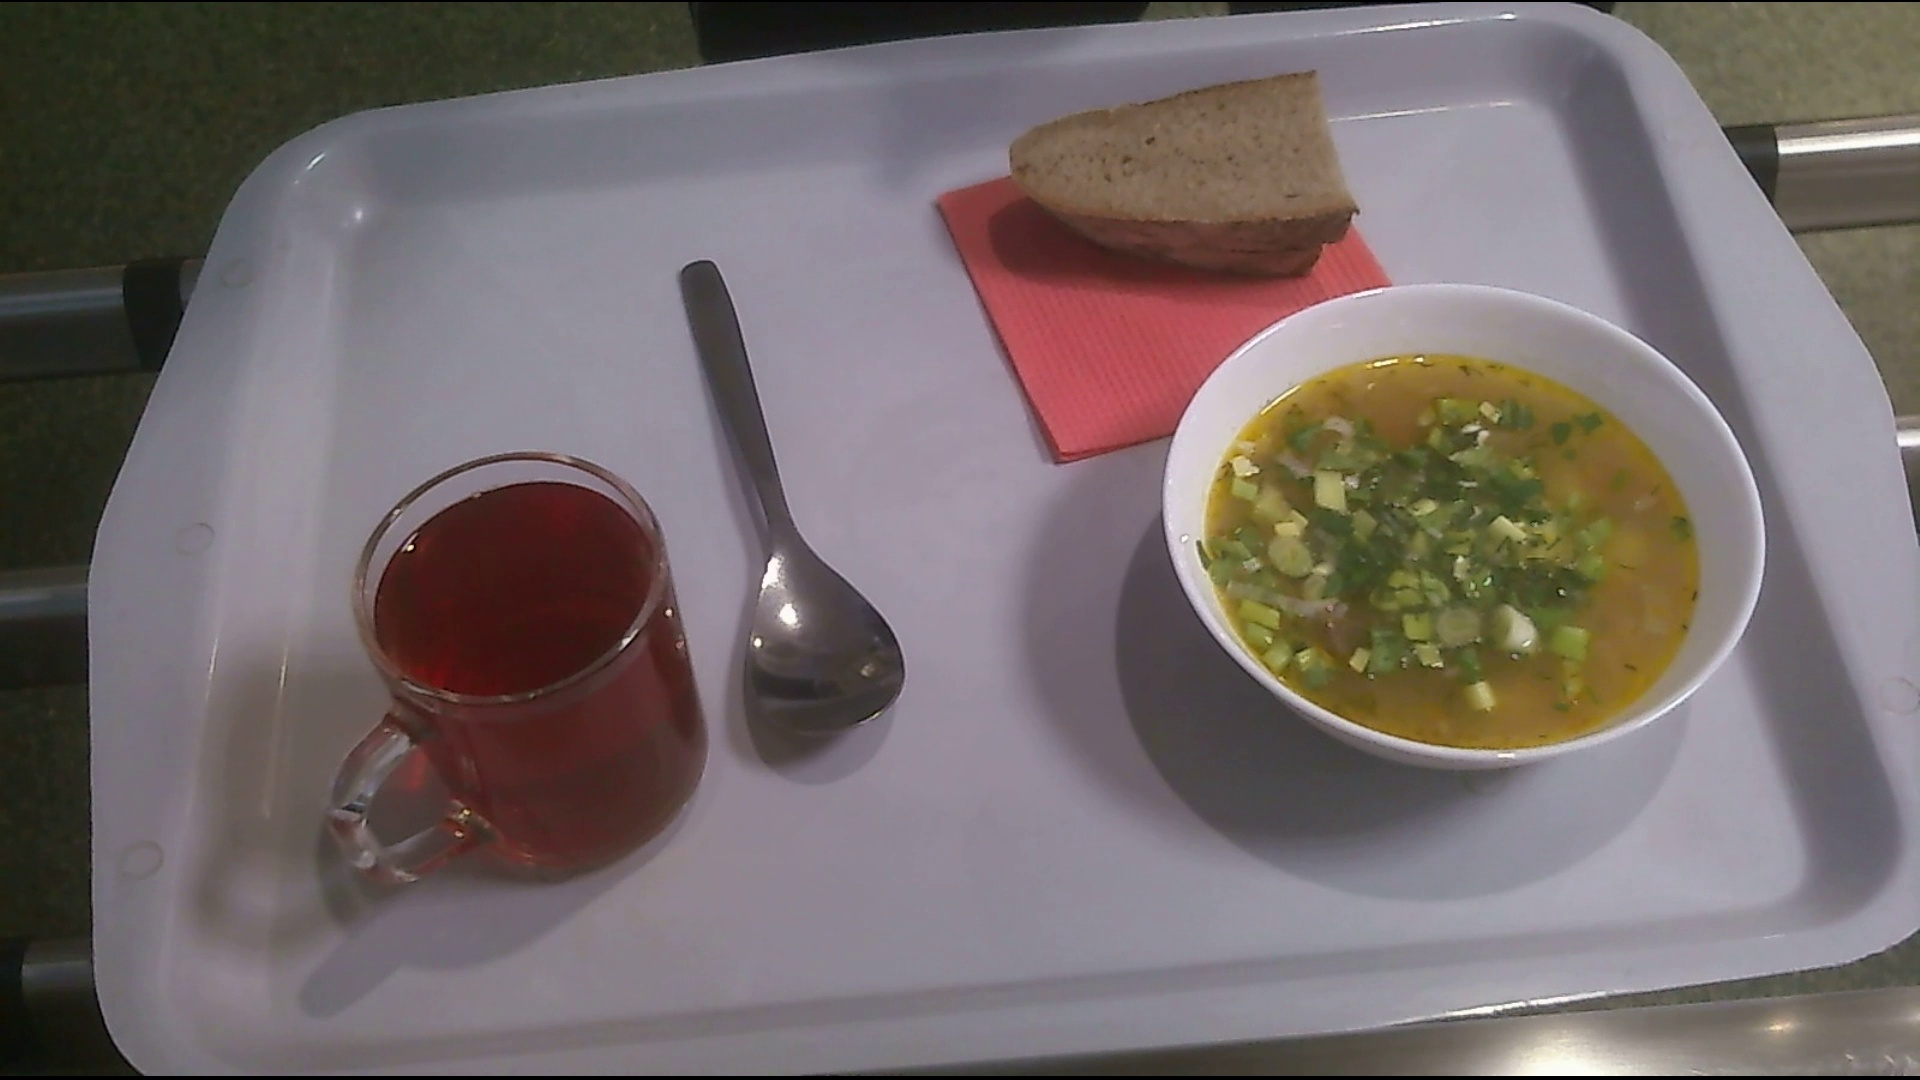bowl: (1158, 285, 1768, 806)
cutlery: (678, 257, 902, 764)
drink: (330, 442, 709, 905)
other: (1011, 79, 1369, 280)
